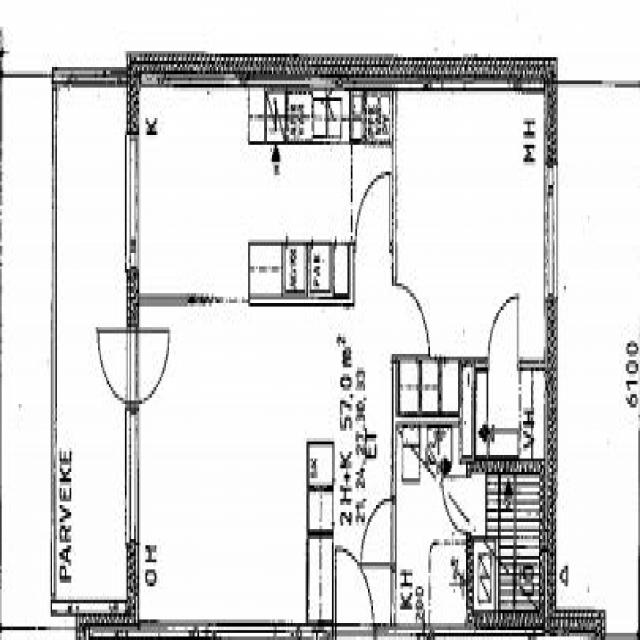door: (336, 543, 375, 640), (126, 332, 173, 404), (92, 332, 139, 404), (356, 171, 389, 251), (392, 285, 428, 354), (361, 497, 396, 564), (488, 294, 518, 368), (440, 476, 474, 534)
